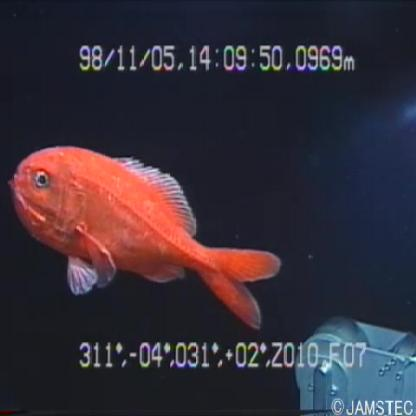Bio: (3, 141, 284, 336)
Rov: (294, 308, 416, 412)
